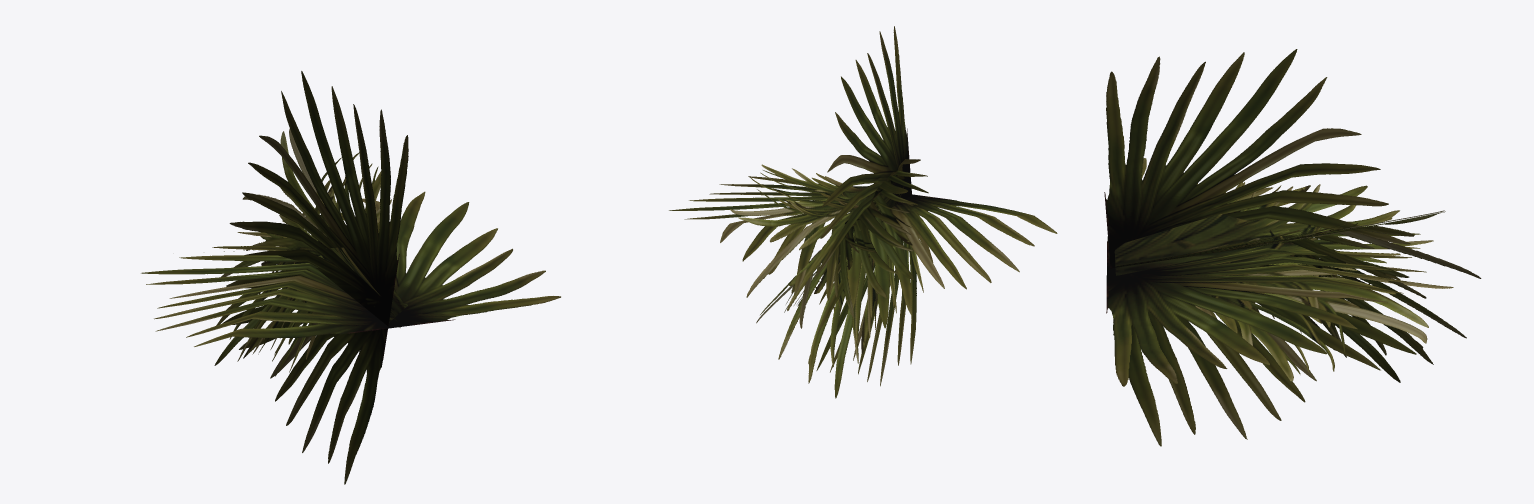
The model's file is MEP_Pandani_02_LOD_01.fbx.
3 renders of one model, left to right at view 1: azimuth 30°, elevation 25°; view 2: azimuth 150°, elevation 25°; view 3: azimuth 270°, elevation 25°, orthographic. The views are drawn at different scales.
Parts seen in each view (by area): view 1: MEP_Pandani_02_LOD_01; view 2: MEP_Pandani_02_LOD_01; view 3: MEP_Pandani_02_LOD_01.
Boxes of the visible parts, left/top/right/bottom form: MEP_Pandani_02_LOD_01: left=141, top=71, right=560, bottom=484; MEP_Pandani_02_LOD_01: left=669, top=26, right=1057, bottom=398; MEP_Pandani_02_LOD_01: left=1104, top=49, right=1481, bottom=446.
Bounding box in the file's own units: 2.79 × 2.72 × 2.15.
